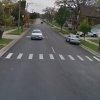Crosswalk: (8, 44, 93, 68)
